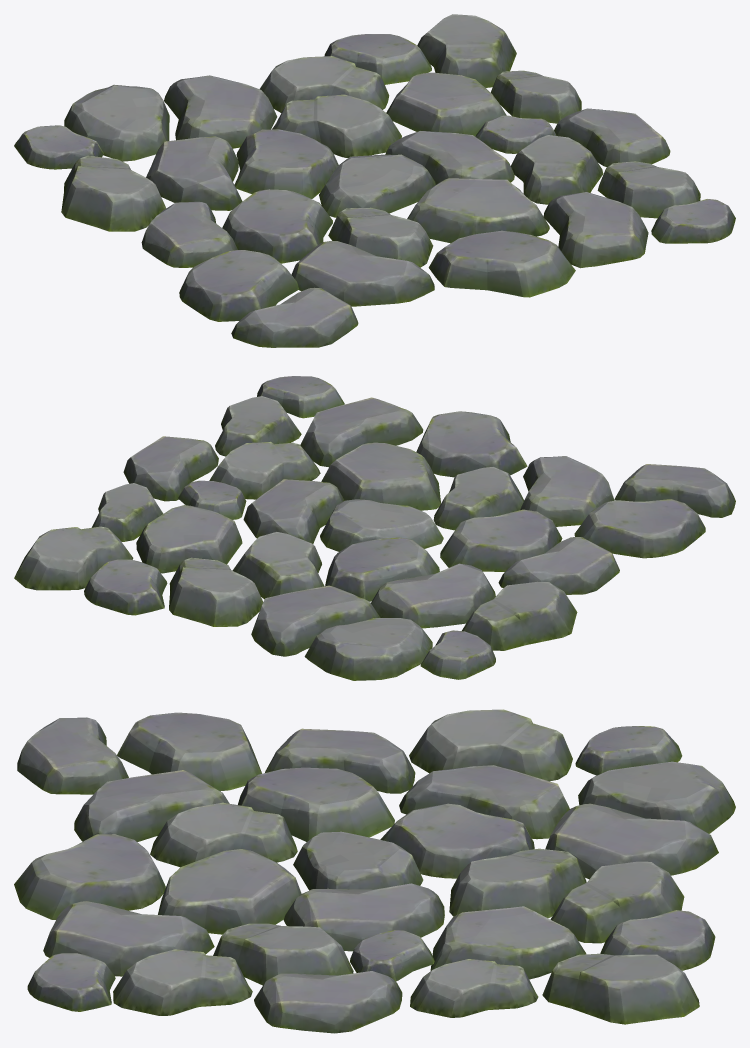
The model's file is rockpath_round_wide.glb.
3 views of the same model, one above another, from view 1: azimuth 30°, elevation 25°; view 2: azimuth 150°, elevation 25°; view 3: azimuth 270°, elevation 25° (orthographic). The views are drawn at different scales.
Visible parts, largest first — view 1: RockPath_Round_Wide; view 2: RockPath_Round_Wide; view 3: RockPath_Round_Wide.
Boxes of the visible parts, box(x1,y1,x2,y2) form: RockPath_Round_Wide: box(14, 14, 735, 347); RockPath_Round_Wide: box(14, 376, 735, 680); RockPath_Round_Wide: box(14, 709, 735, 1033).
Size of the model in its own units: 2.11 by 0.1128 by 2.13.
Materials: 1 (1 with a texture image).
